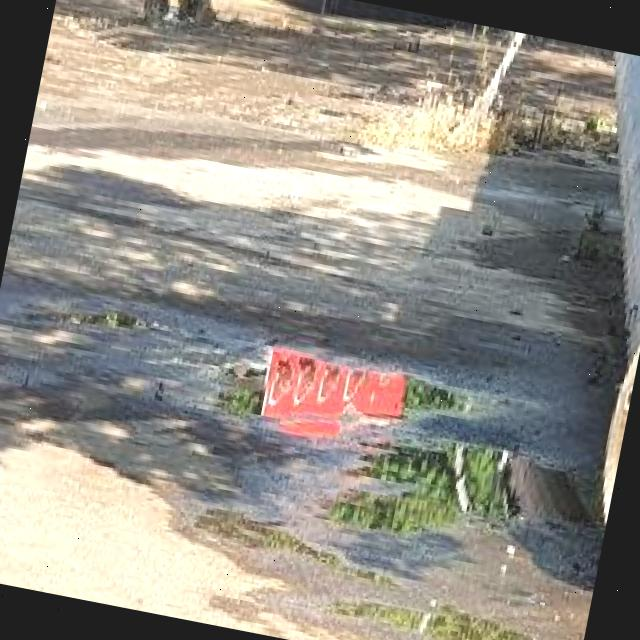stagnation: (0, 242, 615, 608)
